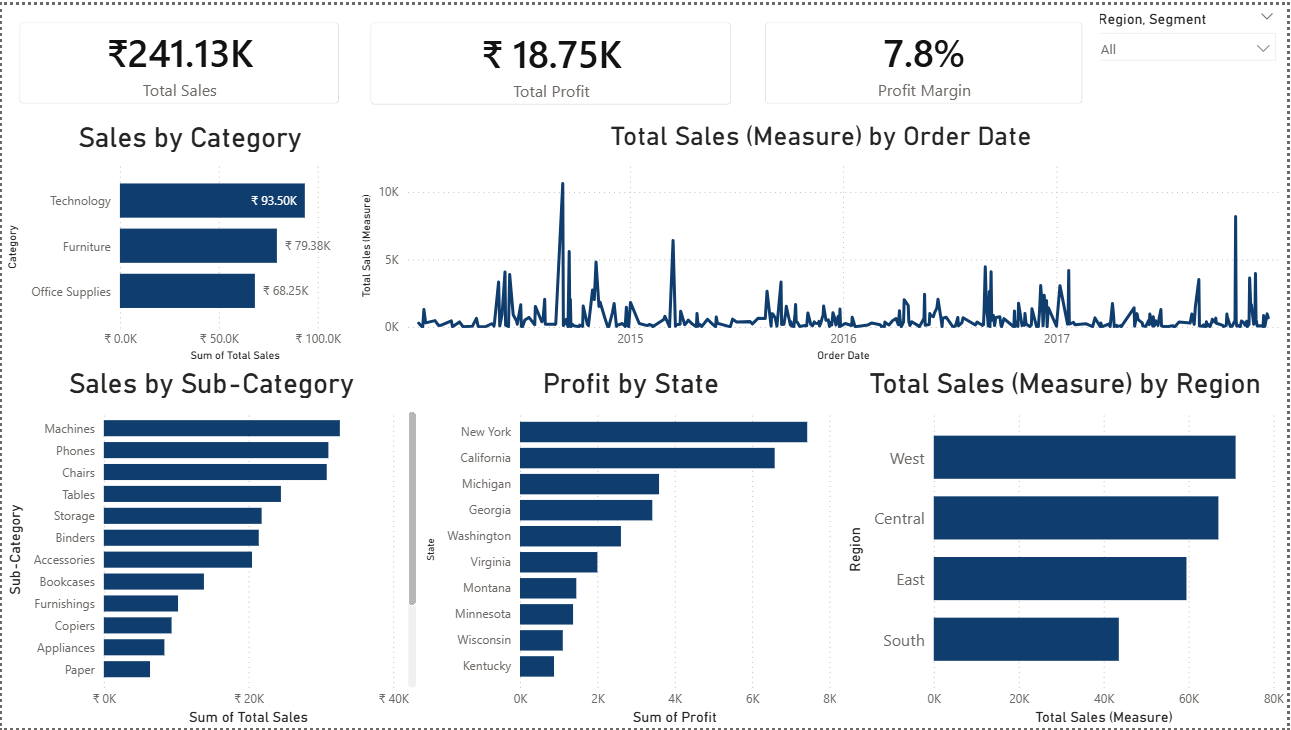

What the dashboard file says about the page in this screenshot:
{"tool":"powerbi","page":{"name":"Page 1","canvas":[1280,720],"ordinal":0},"visuals":[{"type":"clusteredBarChart","title":"Sales by Category","fields":{"Category":["Sheet1.Category"],"Y":["Sum(Sheet1.Sales)"]},"box":[0,115.3,374.6,244.1],"z":0},{"type":"clusteredBarChart","title":"Sales by Sub-Category","fields":{"Category":["Sheet1.Sub-Category"],"Y":["Sum(Sheet1.Sales)"]},"box":[0,359.3,416.9,361],"z":1000},{"type":"clusteredBarChart","title":"Profit by State","fields":{"Category":["Sheet1.State"],"Y":["Sum(Sheet1.Profit)"]},"box":[416.9,359.3,418.6,361],"z":2000},{"type":"slicer","fields":{"Values":["Sheet1.Region","Sheet1.Segment"]},"box":[1078,0,200,115.3],"z":3000},{"type":"cardVisual","fields":{"Data":["Sheet1.Total Sales (Measure)"]},"box":[0,0,352.5,115.3],"z":4000},{"type":"cardVisual","fields":{"Data":["Sheet1.Profit Margin Measure"]},"box":[742.4,0,350.8,115.3],"z":5000},{"type":"cardVisual","fields":{"Data":["Sum(Sheet1.Profit)"]},"box":[349.2,0,393.2,116.9],"z":6000},{"type":"lineChart","fields":{"Category":["Sheet1.Order Date"],"Y":["Sheet1.Total Sales (Measure)"]},"box":[352.5,115.3,925.4,244.1],"z":7000},{"type":"clusteredBarChart","fields":{"Category":["Sheet1.Region"],"Y":["Sheet1.Total Sales (Measure)"]},"box":[835.6,359.3,444.1,361],"z":8000}]}

Visuals, with their boxes in screenshot pixels (x1, y1, x2, y2), scaled from the page's 1280x720 canvas onto the 1291x730 screenshot:
"Sales by Category" clusteredBarChart: left=0, top=117, right=378, bottom=364
"Sales by Sub-Category" clusteredBarChart: left=0, top=364, right=420, bottom=729
"Profit by State" clusteredBarChart: left=420, top=364, right=843, bottom=729
slicer - Sheet1.Region x Sheet1.Segment: left=1087, top=0, right=1289, bottom=117
cardVisual - Sheet1.Total Sales (Measure): left=0, top=0, right=356, bottom=117
cardVisual - Sheet1.Profit Margin Measure: left=749, top=0, right=1103, bottom=117
cardVisual - Sum(Sheet1.Profit): left=352, top=0, right=749, bottom=119
lineChart - Sheet1.Order Date x Sheet1.Total Sales (Measure): left=356, top=117, right=1289, bottom=364
clusteredBarChart - Sheet1.Region x Sheet1.Total Sales (Measure): left=843, top=364, right=1290, bottom=729
